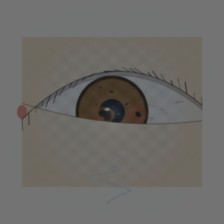foreign_body_visible: (82, 96, 132, 135)
